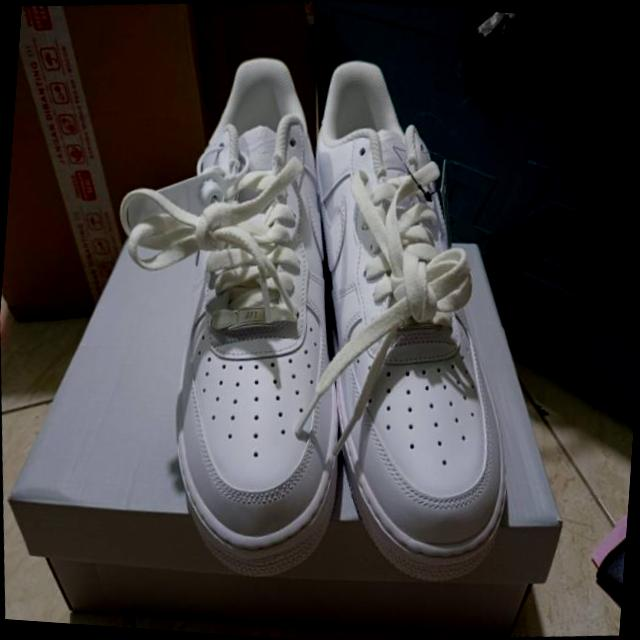nike_original_airforce: (278, 43, 546, 596), (126, 40, 380, 589)
